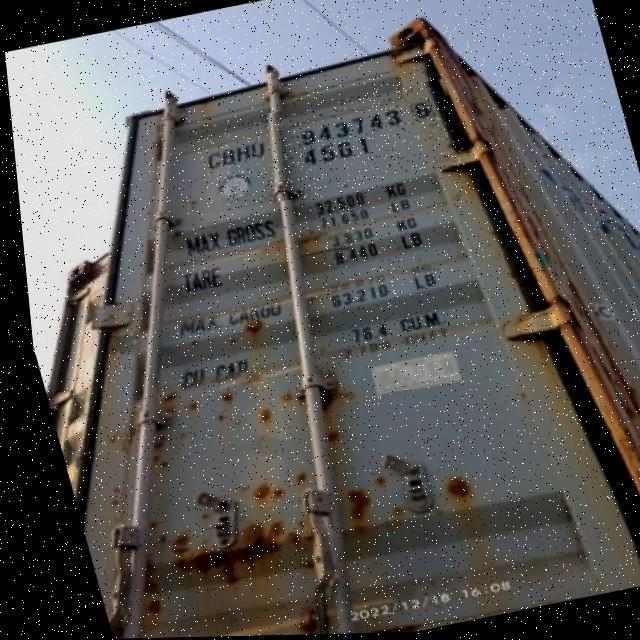container_number_h: (184, 80, 467, 215)
